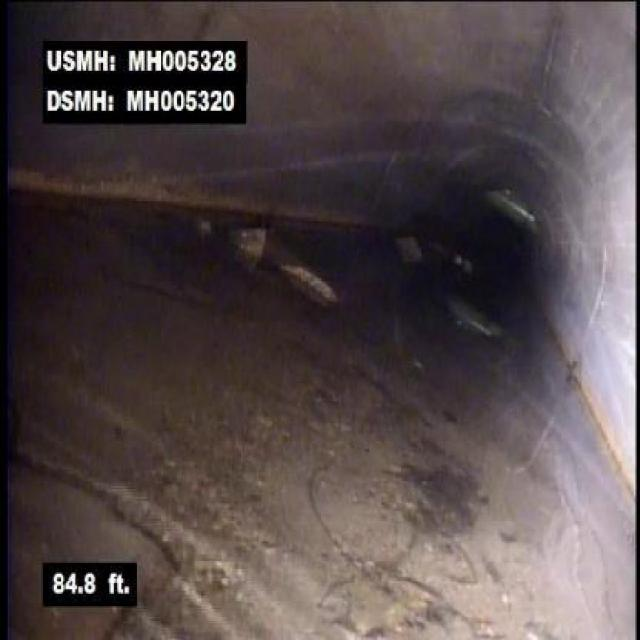Debris: (232, 226, 342, 314)
